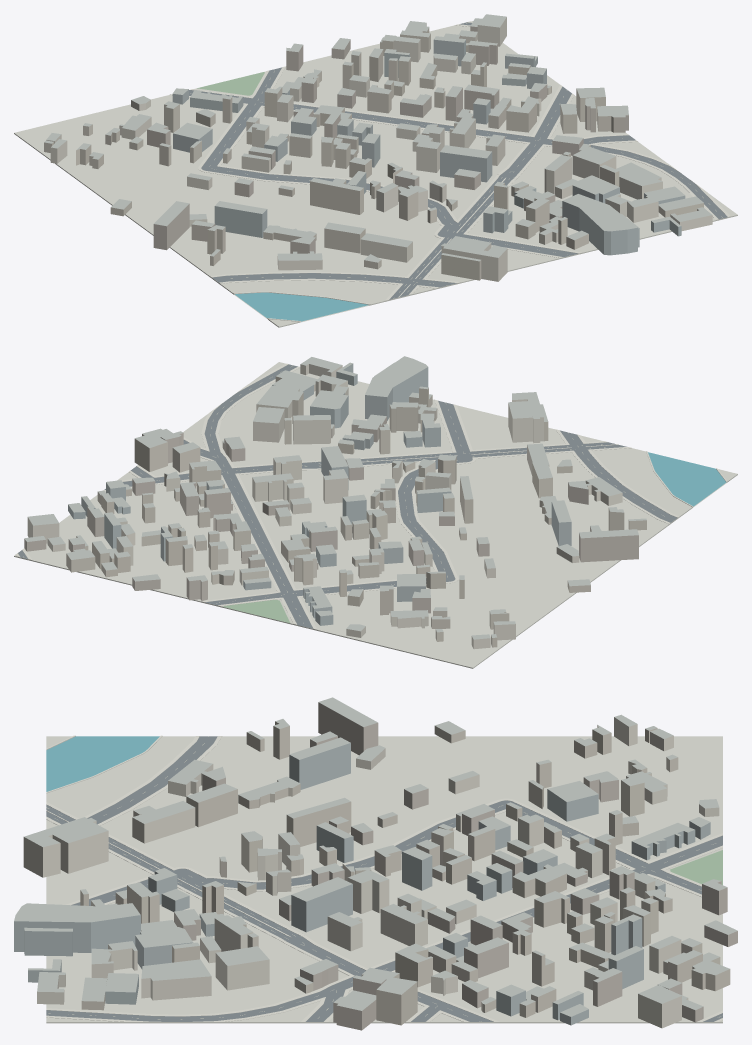
3 renders of one model, top to bottom at view 1: azimuth 30°, elevation 25°; view 2: azimuth 150°, elevation 25°; view 3: azimuth 270°, elevation 25°, orthographic. The views are drawn at different scales.
Visible parts, largest first — view 1: city; view 2: city; view 3: city.
Part boxes in pixels (x1,y1,x2,y2): city: (14,14,737,327); city: (14,356,737,668); city: (14,697,737,1030).
Size of the model in its own units: 529 by 26 by 535.
